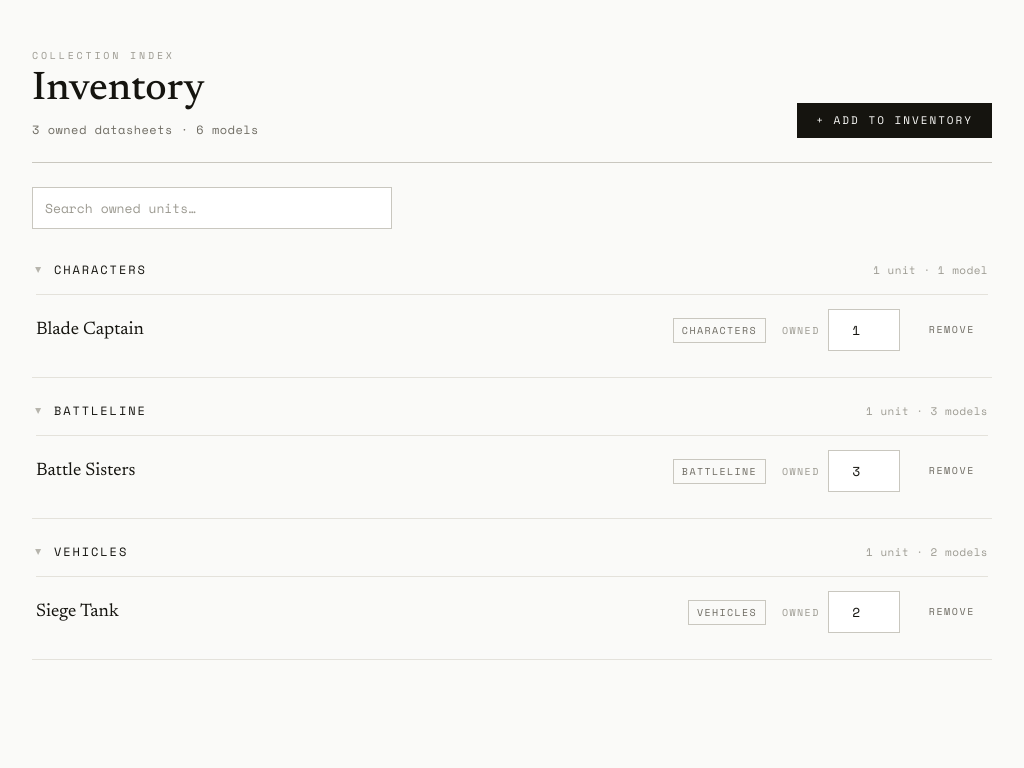
Test case: InventoryView › collapses a role section when its header is clicked
Check: the text "Blade Captain" is shown, box [36,321,144,339]
Click the button "▸ Characters 1 unit · 1 model". click: (100,270)
box: [32,245,992,294]
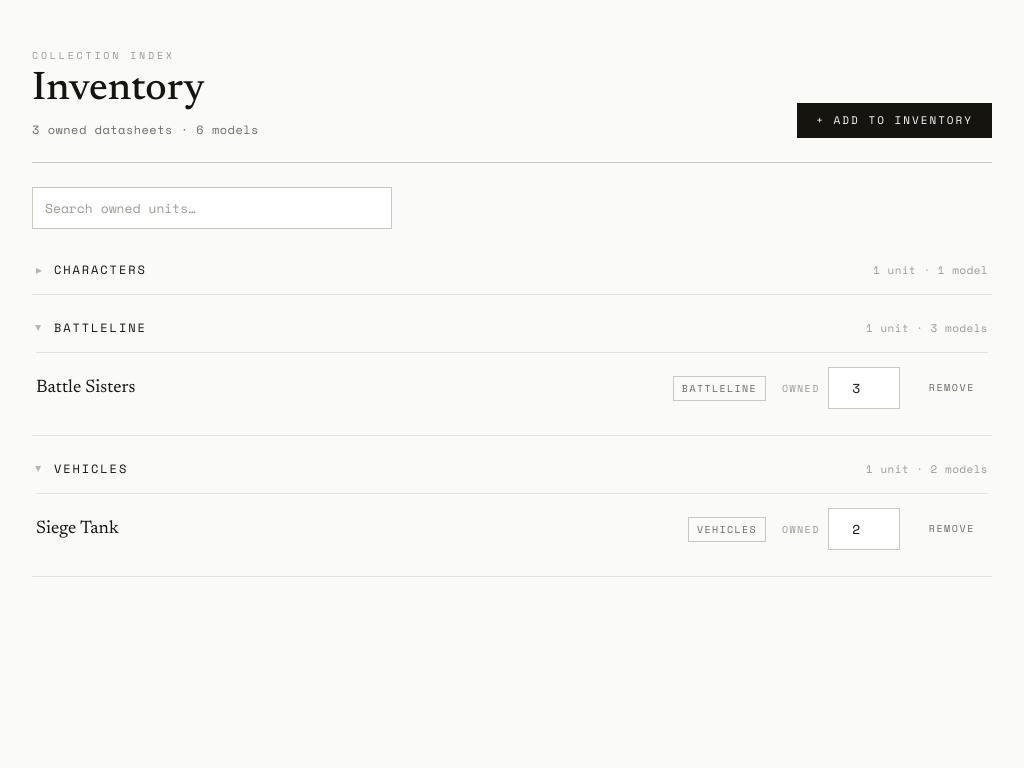
Check: the text "Blade Captain" is gone
